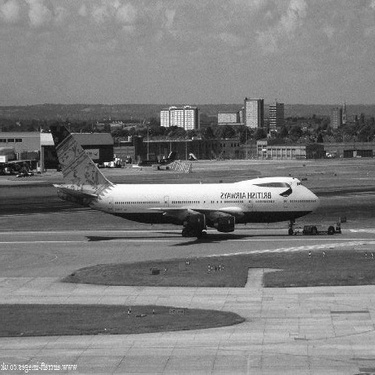airplane: (29, 117, 331, 245)
